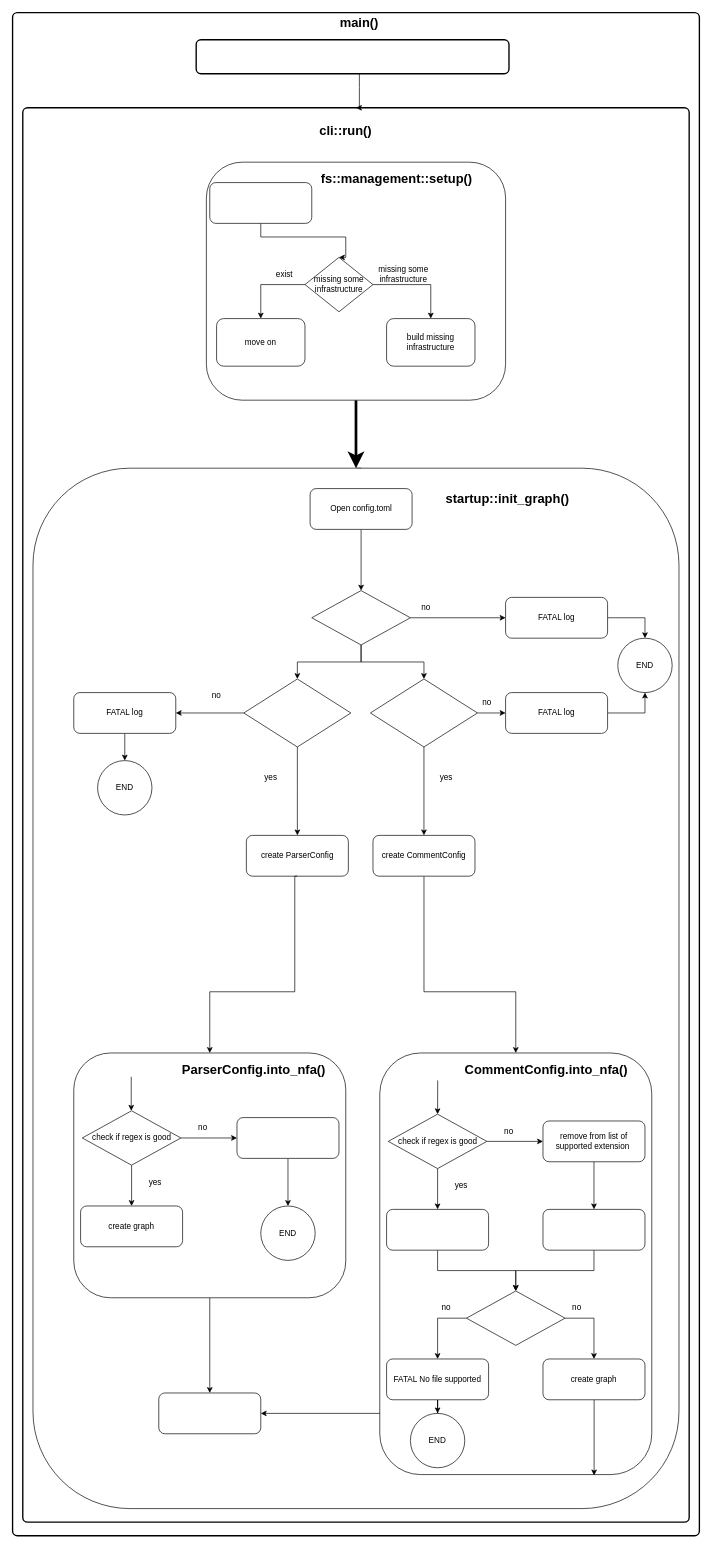
The diagram is 711 pixels wide and 1548 high, and some of its shapes have lost their labels. Each missing label, with the box of its shape:
able to deserialize into comment config: (370, 678, 477, 747)
able to deserialize into parser config: (243, 678, 351, 747)
able to read it?: (311, 590, 410, 645)
add to list of supported extension: (386, 1209, 489, 1250)
check fs: (209, 182, 312, 223)
check if list is empty: (466, 1290, 565, 1345)
env_logger::init(): (195, 39, 509, 74)
FATAL: (236, 1117, 339, 1158)
return both nfa: (158, 1392, 261, 1434)
WARN about unsupported extension: (542, 1209, 645, 1250)
